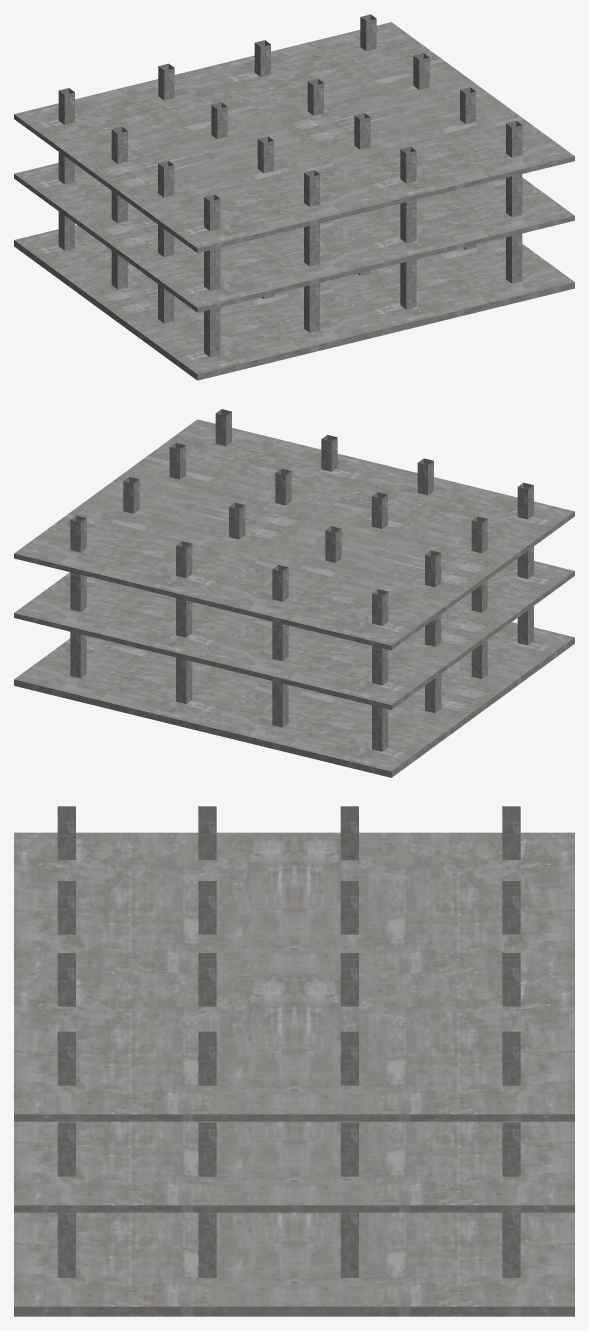
Rendered from Props_constructiob_b001.fbx.
The picture shows the model from 3 angles, top to bottom: view 1: azimuth 30°, elevation 25°; view 2: azimuth 150°, elevation 25°; view 3: azimuth 270°, elevation 25°; orthographic projection. The views are drawn at different scales.
Parts seen in each view (by area): view 1: Props_constructiob_b001; view 2: Props_constructiob_b001; view 3: Props_constructiob_b001.
Boxes of the visible parts, bbox=[...] form: Props_constructiob_b001: bbox=[14, 14, 574, 380]; Props_constructiob_b001: bbox=[14, 409, 574, 777]; Props_constructiob_b001: bbox=[14, 806, 574, 1316].
Size of the model in its own units: 18.19 by 7.48 by 15.31.
Materials: 1 (1 with a texture image).
